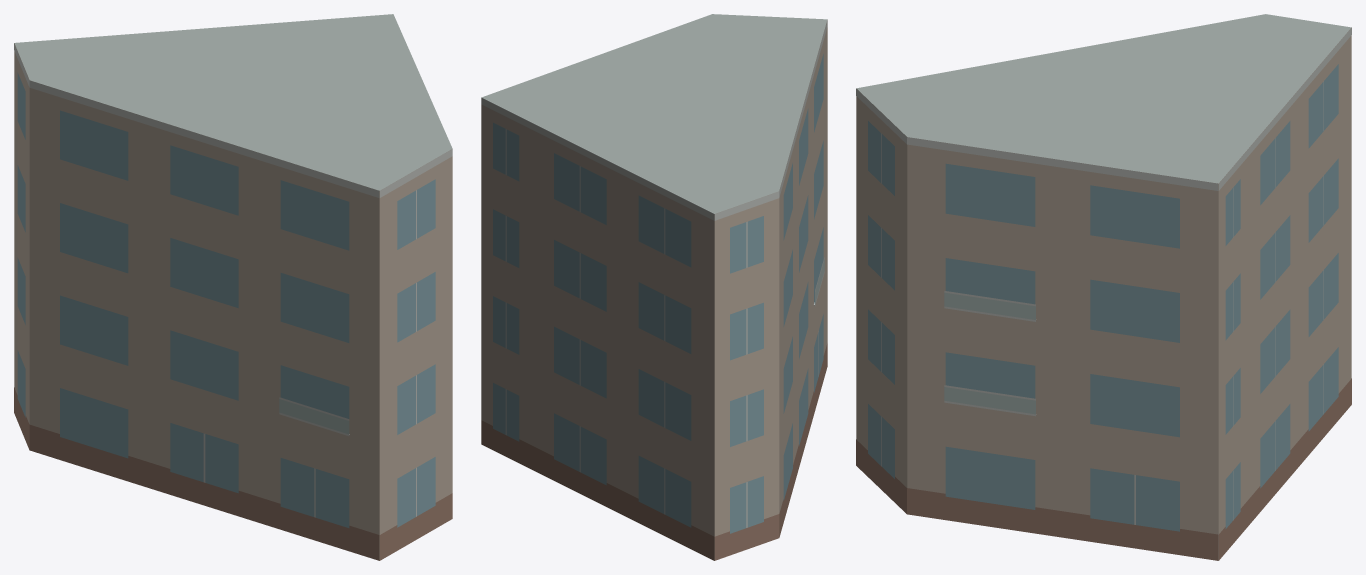
File: survey-upis-32936289.glb
The picture shows the model from 3 angles, left to right: view 1: azimuth 30°, elevation 25°; view 2: azimuth 150°, elevation 25°; view 3: azimuth 270°, elevation 25°; orthographic projection. The views are drawn at different scales.
Visible parts, largest first — view 1: survey-upis-32936289.tmp; view 2: survey-upis-32936289.tmp; view 3: survey-upis-32936289.tmp.
Part boxes in pixels (bbox=[...]): survey-upis-32936289.tmp: bbox=[14, 14, 452, 560]; survey-upis-32936289.tmp: bbox=[481, 14, 827, 560]; survey-upis-32936289.tmp: bbox=[856, 14, 1351, 560].
Size of the model in its own units: 11.77 by 12.2 by 14.53.
